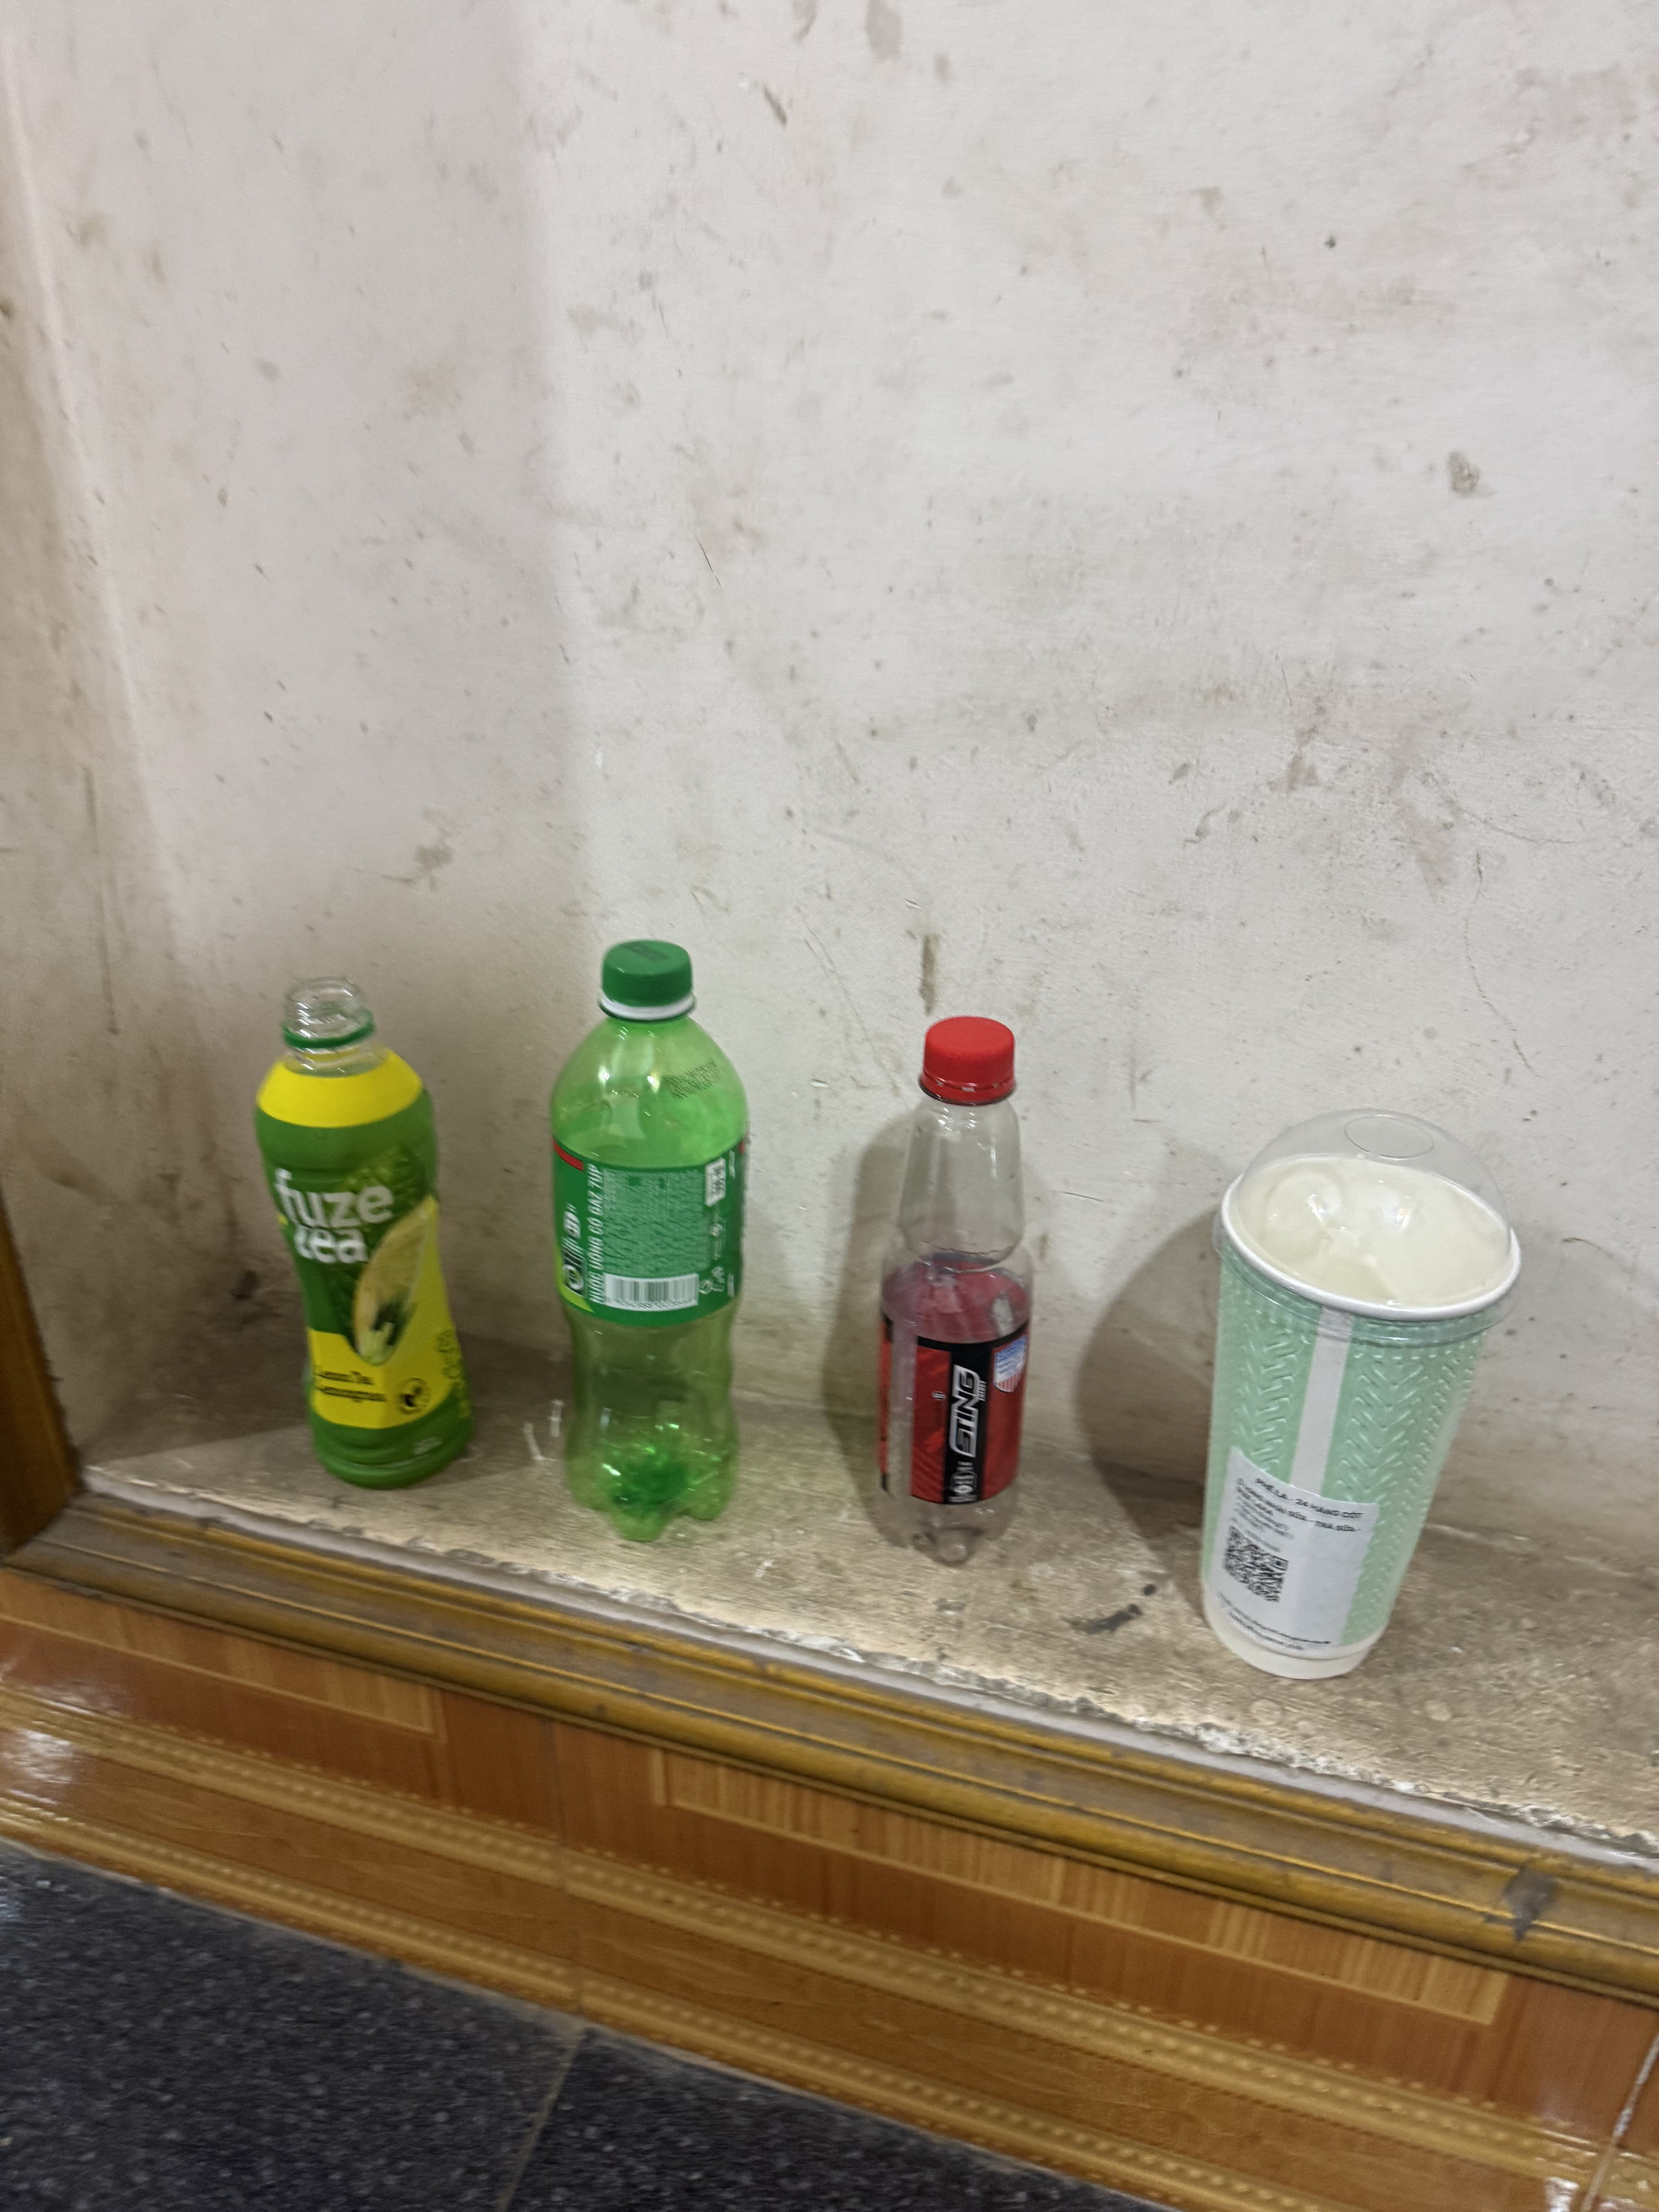2: (1148, 1089, 1544, 1721)
bottle: (537, 914, 777, 1573), (840, 1000, 1086, 1611), (234, 953, 491, 1529)
